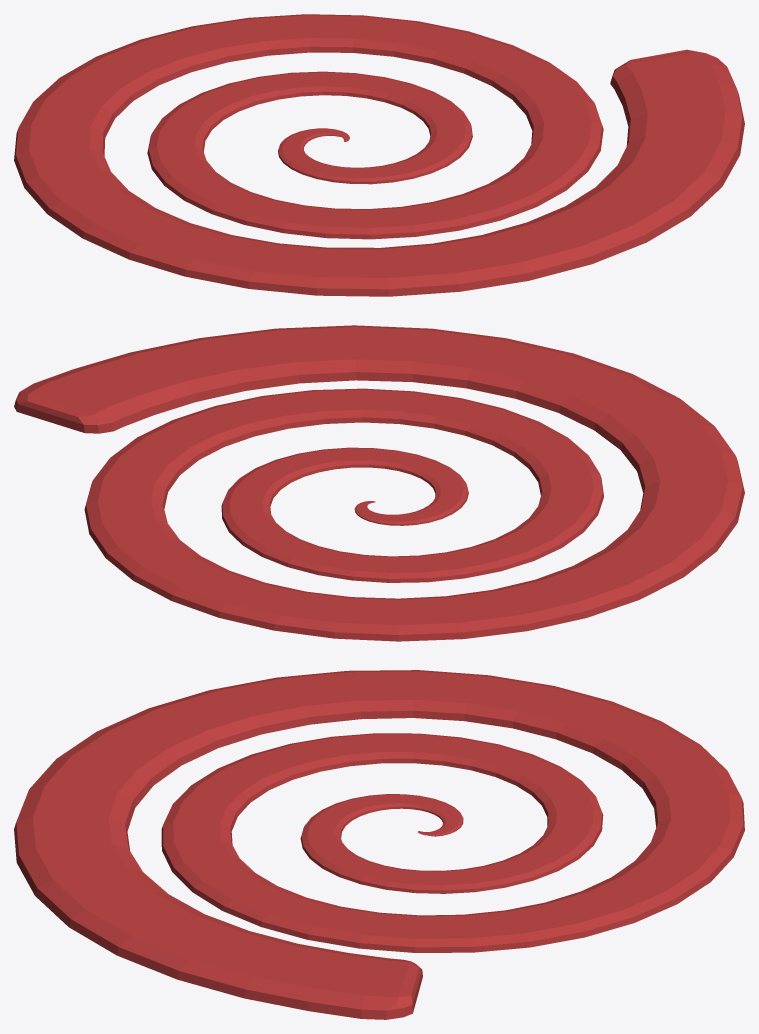
The model's file is Spirale_spawn.glb.
The picture shows the model from 3 angles, top to bottom: view 1: azimuth 30°, elevation 25°; view 2: azimuth 150°, elevation 25°; view 3: azimuth 270°, elevation 25°; orthographic projection. The views are drawn at different scales.
Parts seen in each view (by area): view 1: Spirale_objet; view 2: Spirale_objet; view 3: Spirale_objet.
Part boxes in pixels (x1,y1,x2,y2): Spirale_objet: [14, 14, 744, 296]; Spirale_objet: [14, 325, 744, 641]; Spirale_objet: [14, 670, 744, 1019].
Bounding box in the file's own units: 3.15 × 0.061 × 2.83.
1 material, 1 textured.
